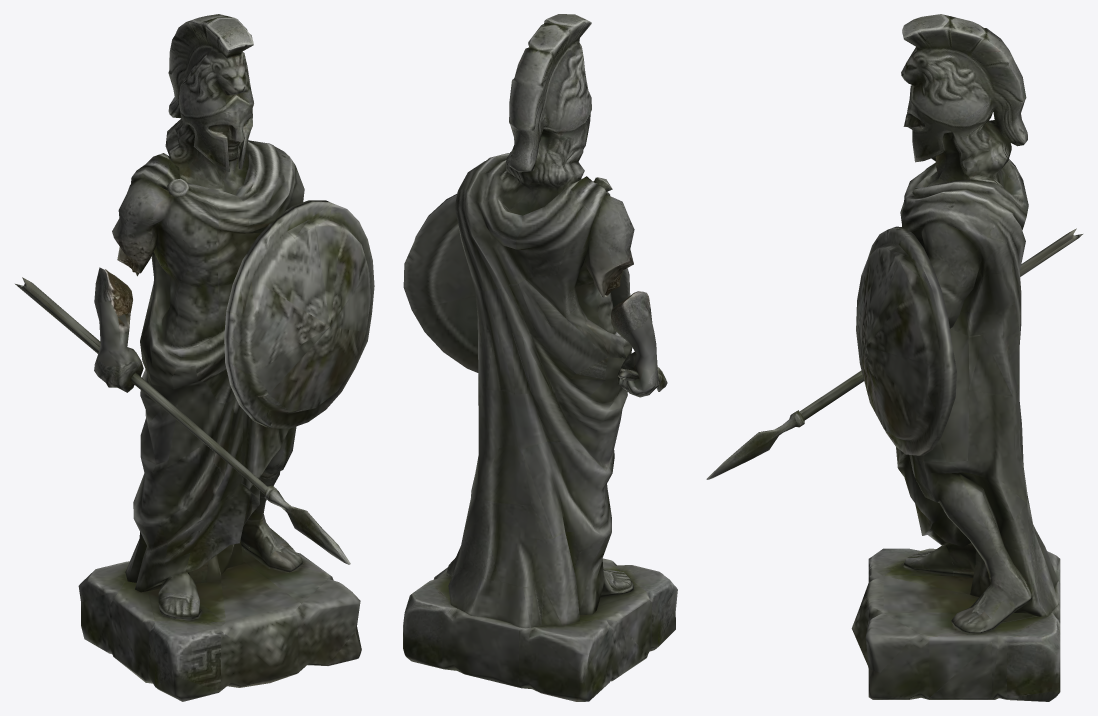
The model's file is prop-statue.glb.
3 renders of one model, left to right at view 1: azimuth 30°, elevation 25°; view 2: azimuth 150°, elevation 25°; view 3: azimuth 270°, elevation 25°, orthographic. The views are drawn at different scales.
Bounding box in the file's own units: 0.4751 × 1 × 0.5402.
Materials: 1 (1 with a texture image).
